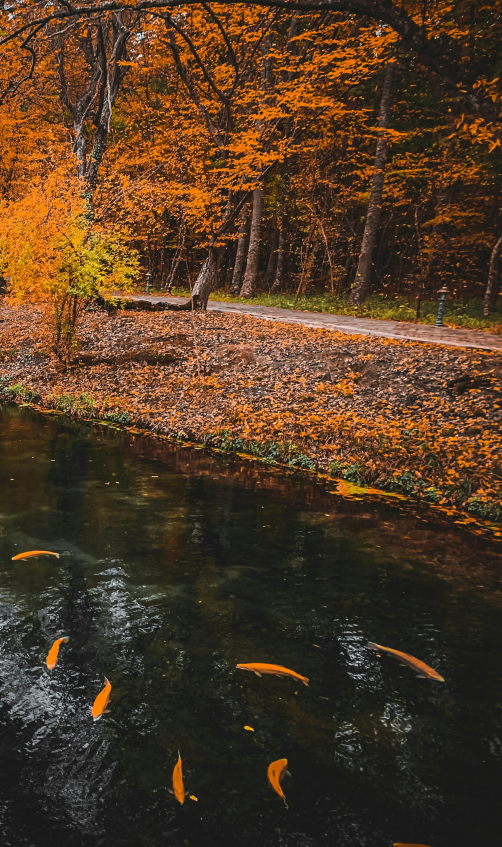fishLarge: (364, 637, 446, 684), (236, 660, 310, 688), (164, 744, 194, 808), (263, 748, 292, 809), (86, 671, 114, 727), (40, 633, 70, 676), (6, 544, 59, 562)
